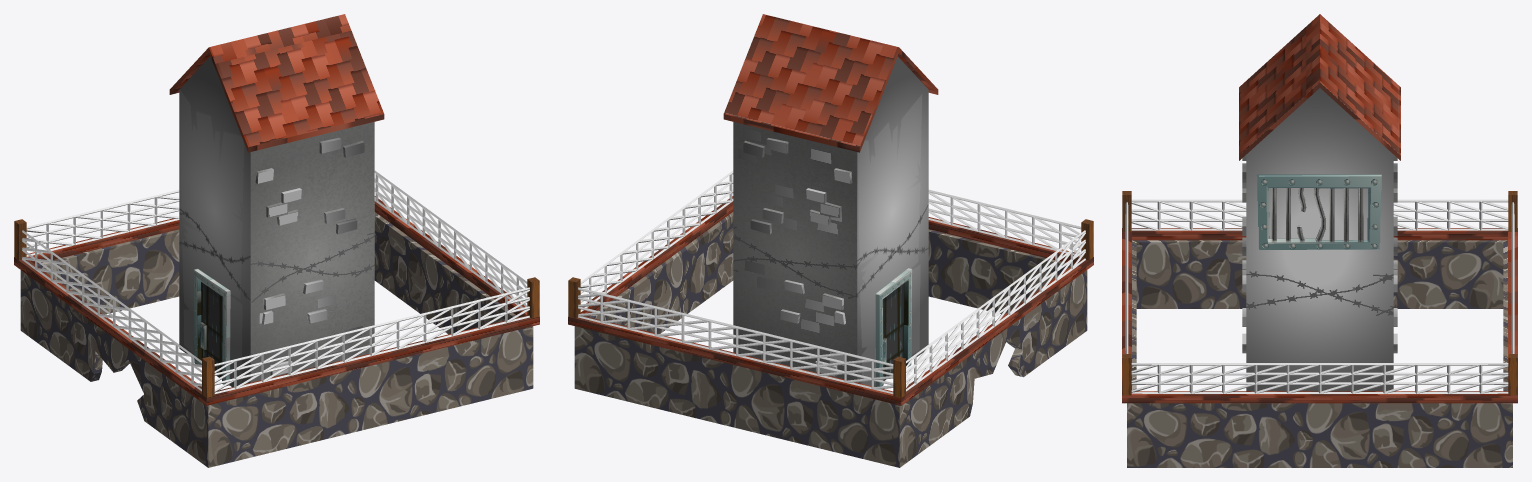
The model's file is jail.fbx.
3 views of the same model, side by side, from view 1: azimuth 30°, elevation 25°; view 2: azimuth 150°, elevation 25°; view 3: azimuth 270°, elevation 25° (orthographic). The views are drawn at different scales.
Visible parts, largest first — view 1: Cube, Cube.001, Cube.004, Cube.002, Cube.003; view 2: Cube, Cube.001, Cube.004, Cube.002, Cube.003; view 3: Cube, Cube.001, Cube.004, Cube.002, Cube.003.
Boxes of the visible parts, box(x1,y1,x2,y2) form: Cube: box(169, 14, 384, 386); Cube.001: box(20, 212, 533, 467); Cube.004: box(22, 170, 529, 393); Cube.002: box(14, 196, 539, 405); Cube.003: box(14, 219, 539, 397); Cube: box(723, 14, 938, 386); Cube.001: box(574, 212, 1087, 467); Cube.004: box(578, 170, 1085, 393); Cube.002: box(568, 196, 1093, 405); Cube.003: box(568, 219, 1093, 397); Cube: box(1239, 14, 1400, 391); Cube.001: box(1127, 240, 1512, 467); Cube.004: box(1125, 199, 1514, 393); Cube.002: box(1122, 228, 1517, 403); Cube.003: box(1122, 191, 1517, 395).
Bounding box in the file's own units: 538 × 508 × 538.
